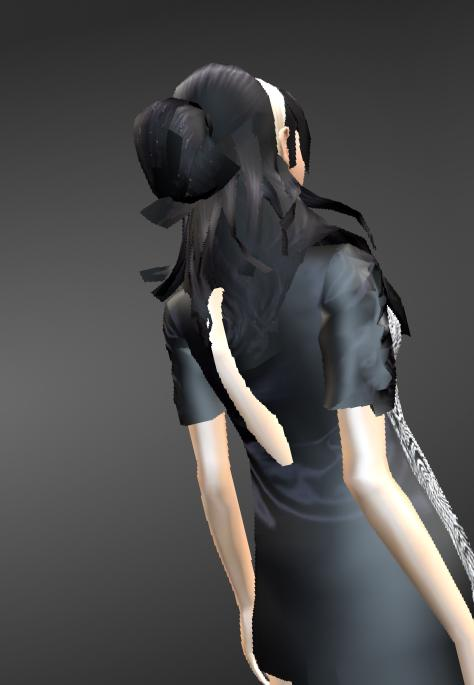clip: (203, 282, 253, 379)
